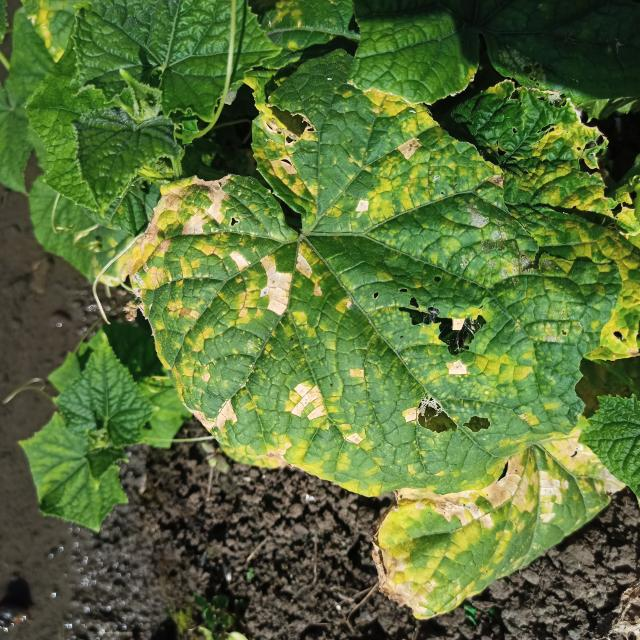disease_cucumber: (130, 75, 618, 485), (383, 425, 621, 617)
